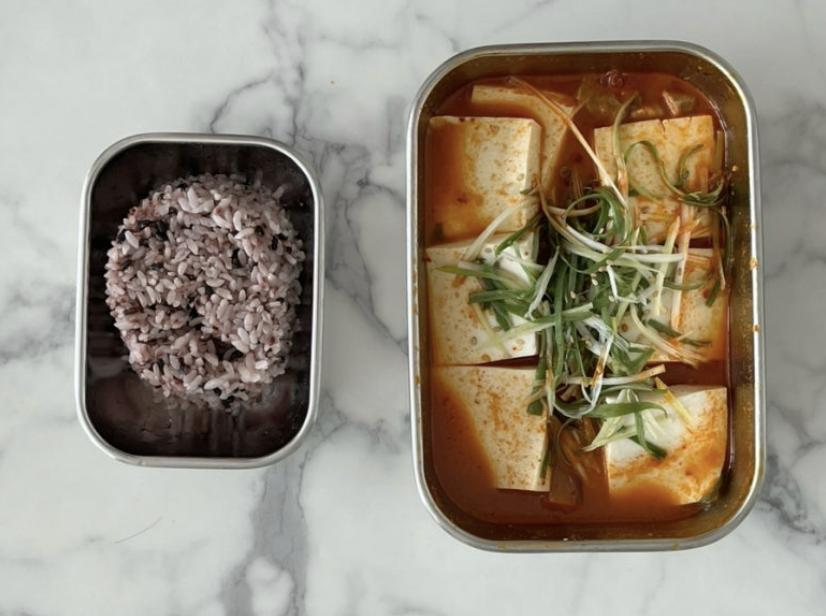Lunch Box: (407, 41, 764, 551), (78, 133, 323, 468)
